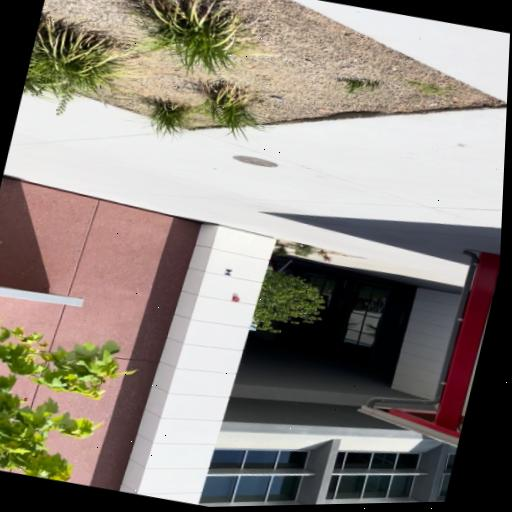target2: (223, 269, 233, 277)
